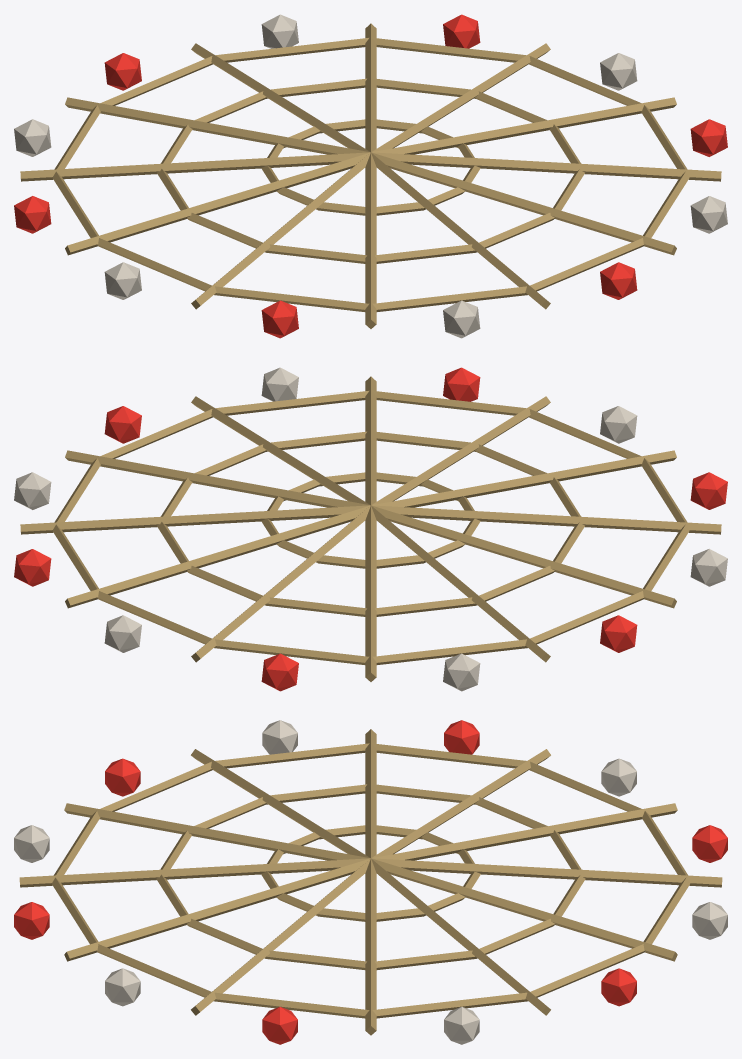
The model's file is NetSpread.obj.
The picture shows the model from 3 angles, top to bottom: view 1: azimuth 30°, elevation 25°; view 2: azimuth 150°, elevation 25°; view 3: azimuth 270°, elevation 25°; orthographic projection.
Parts seen in each view (by area): view 1: NetSpread; view 2: NetSpread; view 3: NetSpread.
Part boxes in pixels (x1,y1,x2,y2): NetSpread: (14, 14, 727, 338); NetSpread: (14, 367, 727, 691); NetSpread: (14, 720, 727, 1044).
Bounding box in the file's own units: 1.02 × 0.068 × 1.02.
